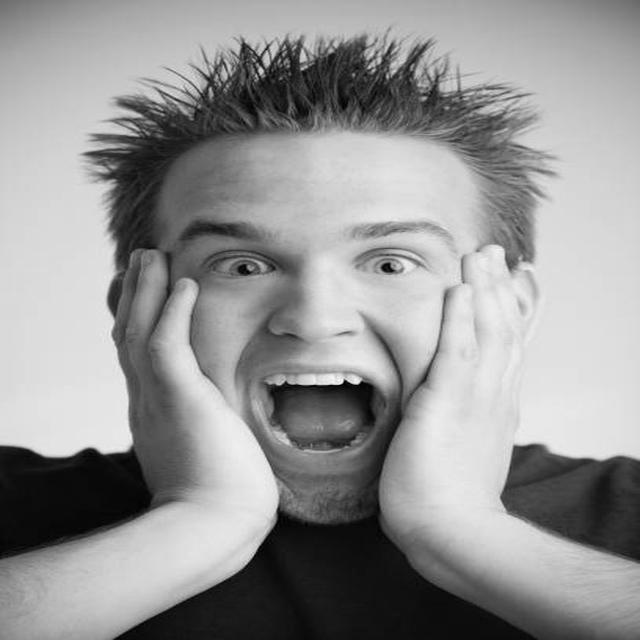Fear: (157, 137, 476, 525)
